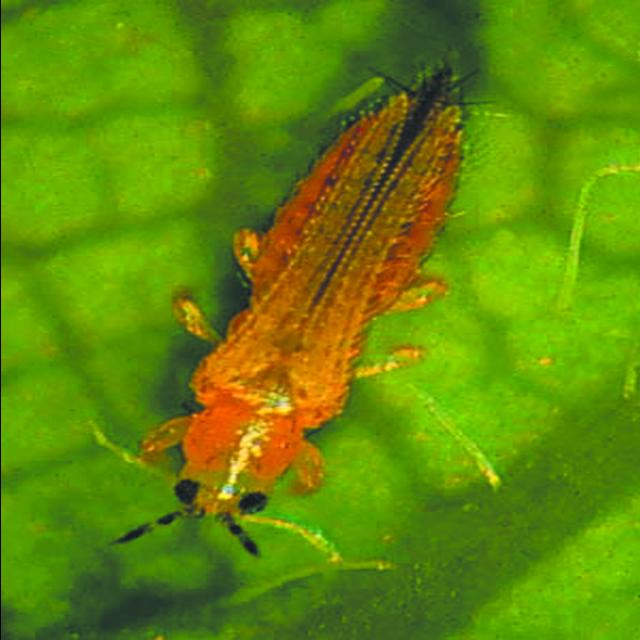thrip: (78, 59, 516, 579)
